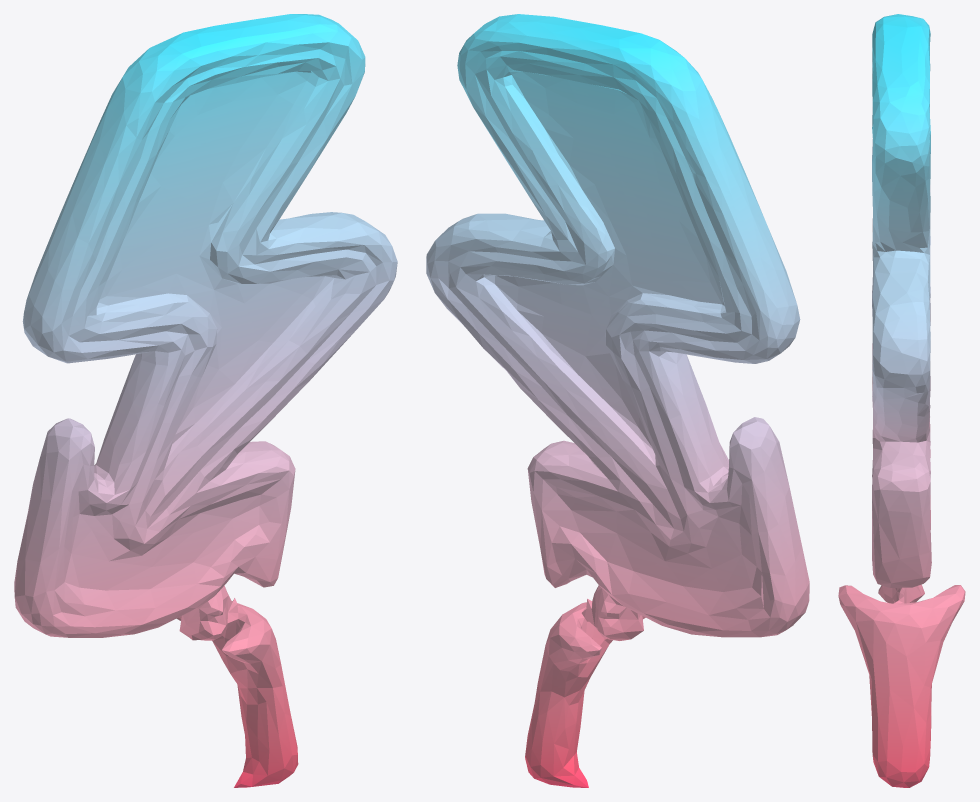
The model's file is 47_cyb_laser_gradient_fish_scales_2832_2026_10_03_b2e01e.glb.
3 views of the same model, side by side, from view 1: azimuth 30°, elevation 25°; view 2: azimuth 150°, elevation 25°; view 3: azimuth 270°, elevation 25° (orthographic). The views are drawn at different scales.
Visible parts, largest first — view 1: geometry_0; view 2: geometry_0; view 3: geometry_0.
Boxes of the visible parts, box(x1,y1,x2,y2) form: geometry_0: box(14, 14, 397, 787); geometry_0: box(426, 14, 809, 787); geometry_0: box(838, 14, 965, 787).
Bounding box in the file's own units: 0.5077 × 1 × 0.1589.
